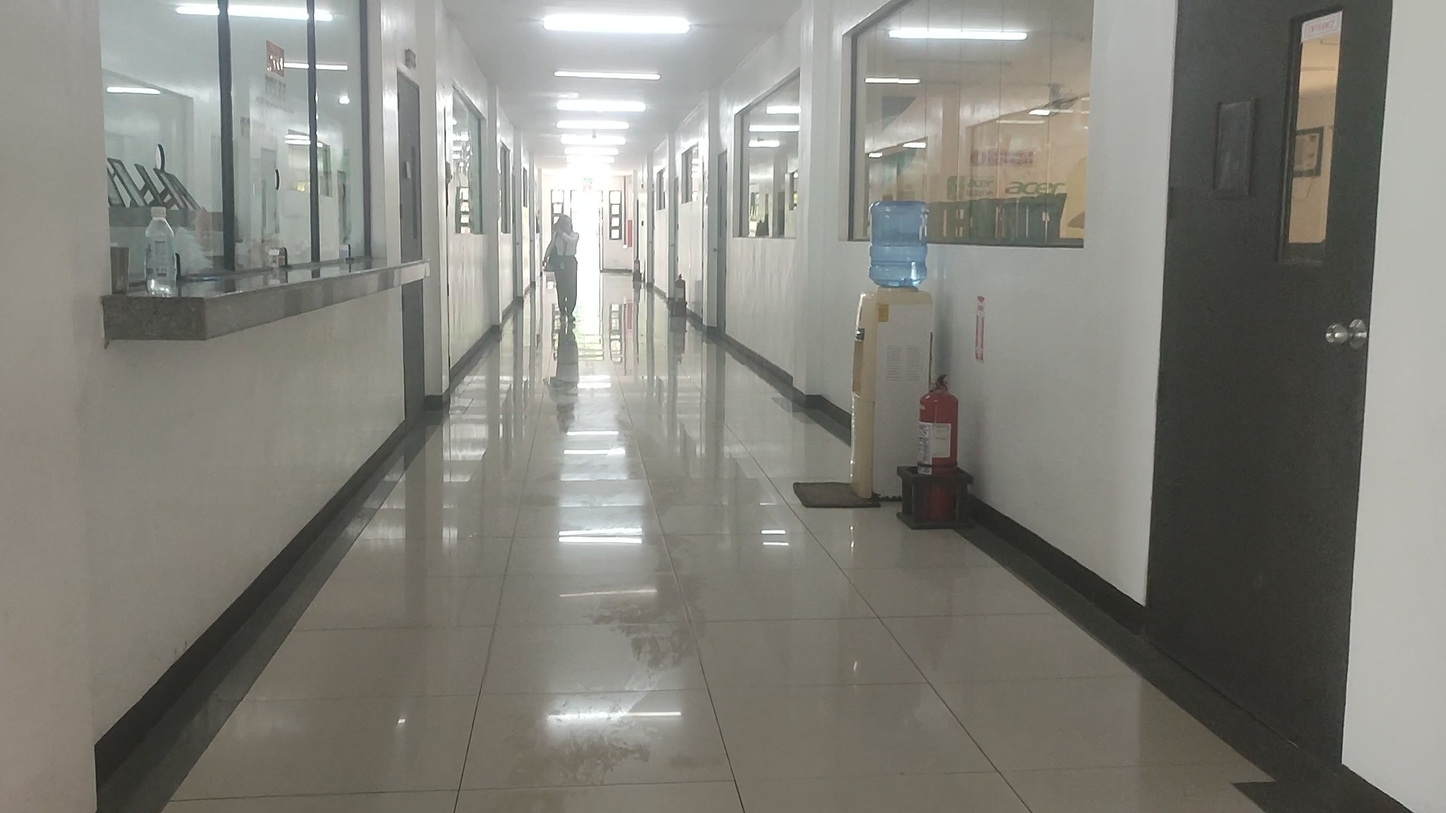door: (1141, 0, 1396, 766)
